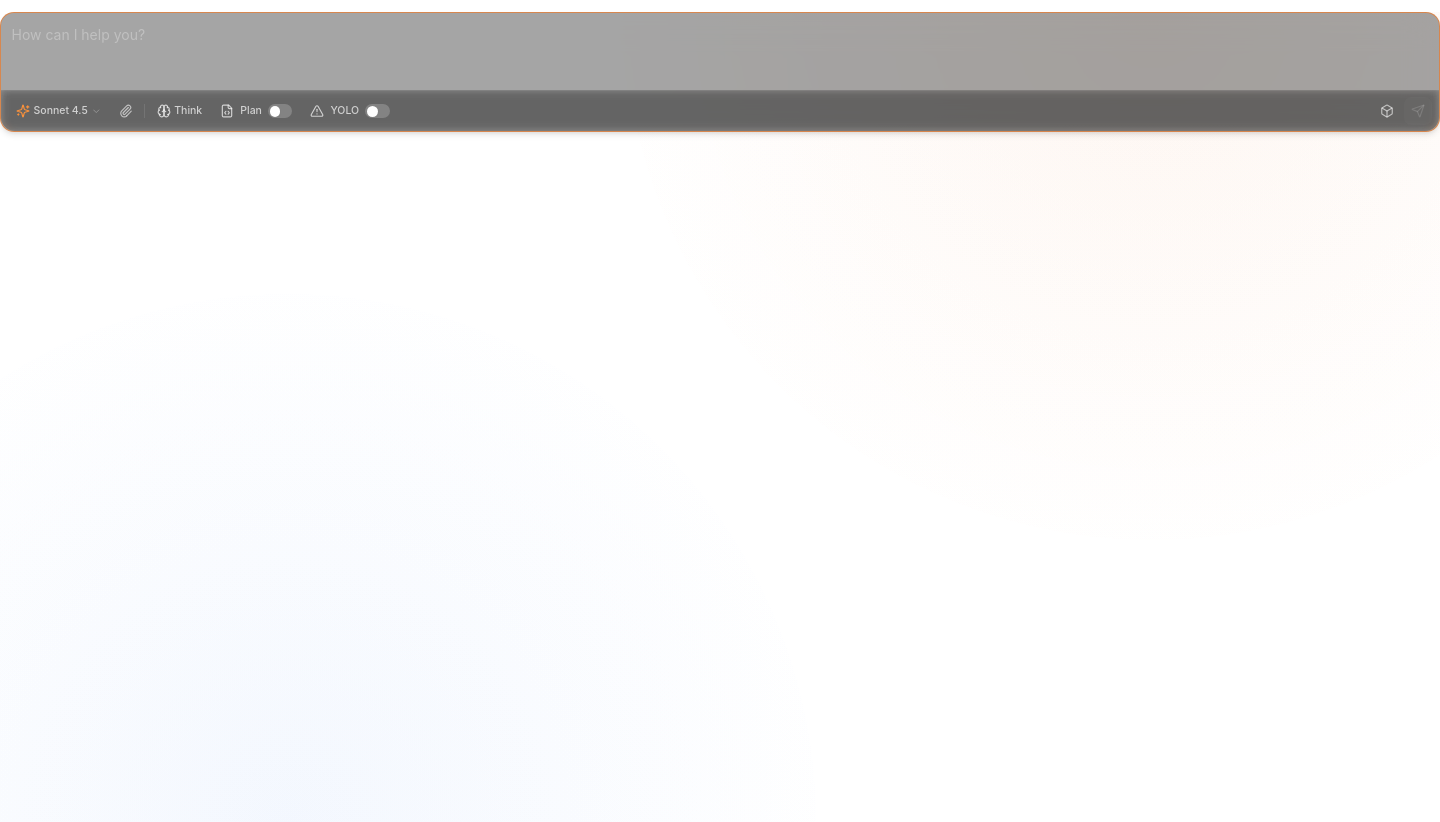
Scenario: MessageInput › attachments › should close attachment menu when clicking outside
This screenshot has width=1440, height=822.
Click the button titled "Attach file or image": {"x": 126, "y": 111} [112,97,140,125]
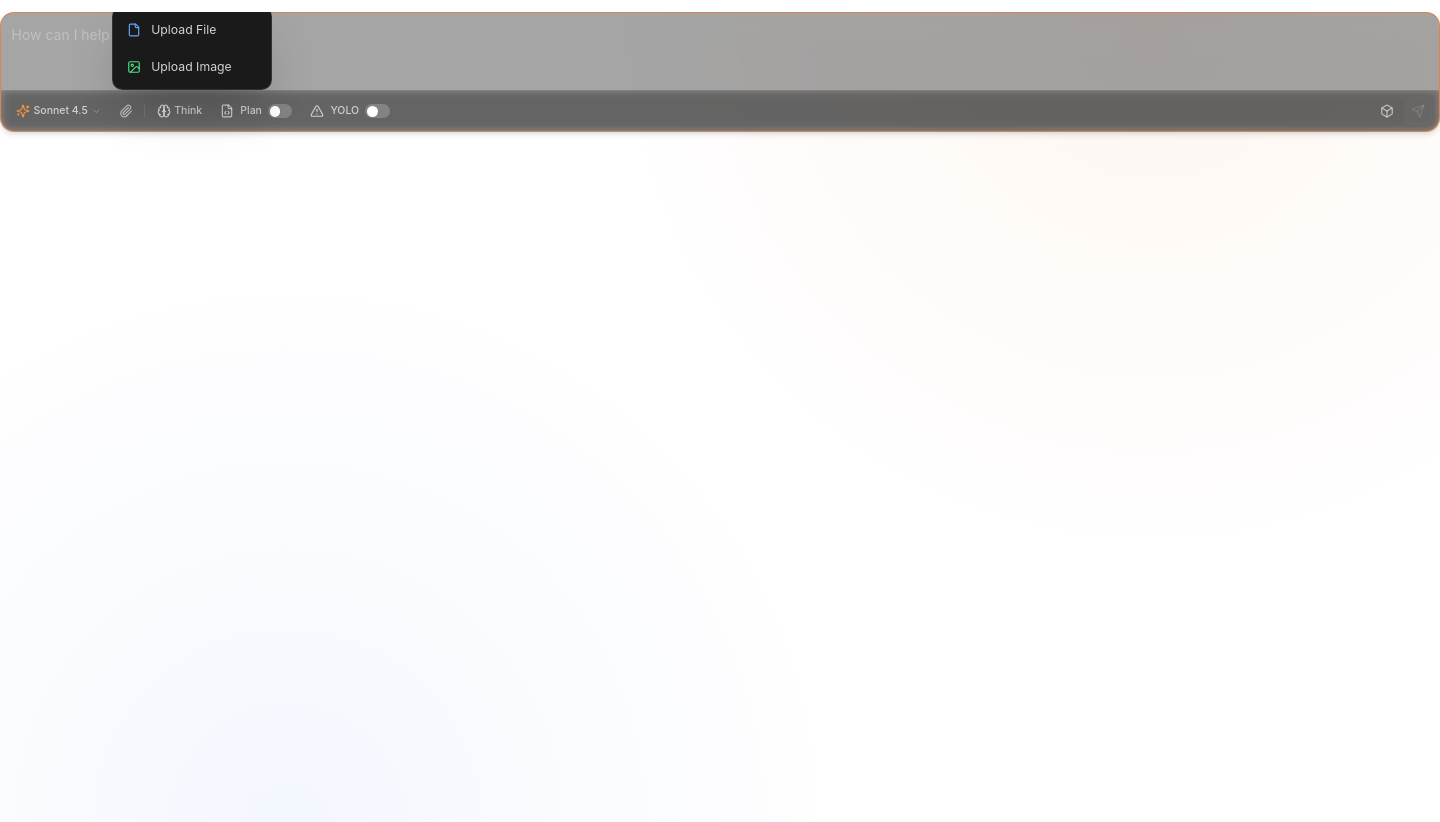
Check: the text "Upload File" is shown, box [151,21,216,38]
Press the mouse on the element showing "Sonnet 4.5 Upload File Upload Image Think Plan YOLO": {"x": 720, "y": 417} [0,12,1439,821]
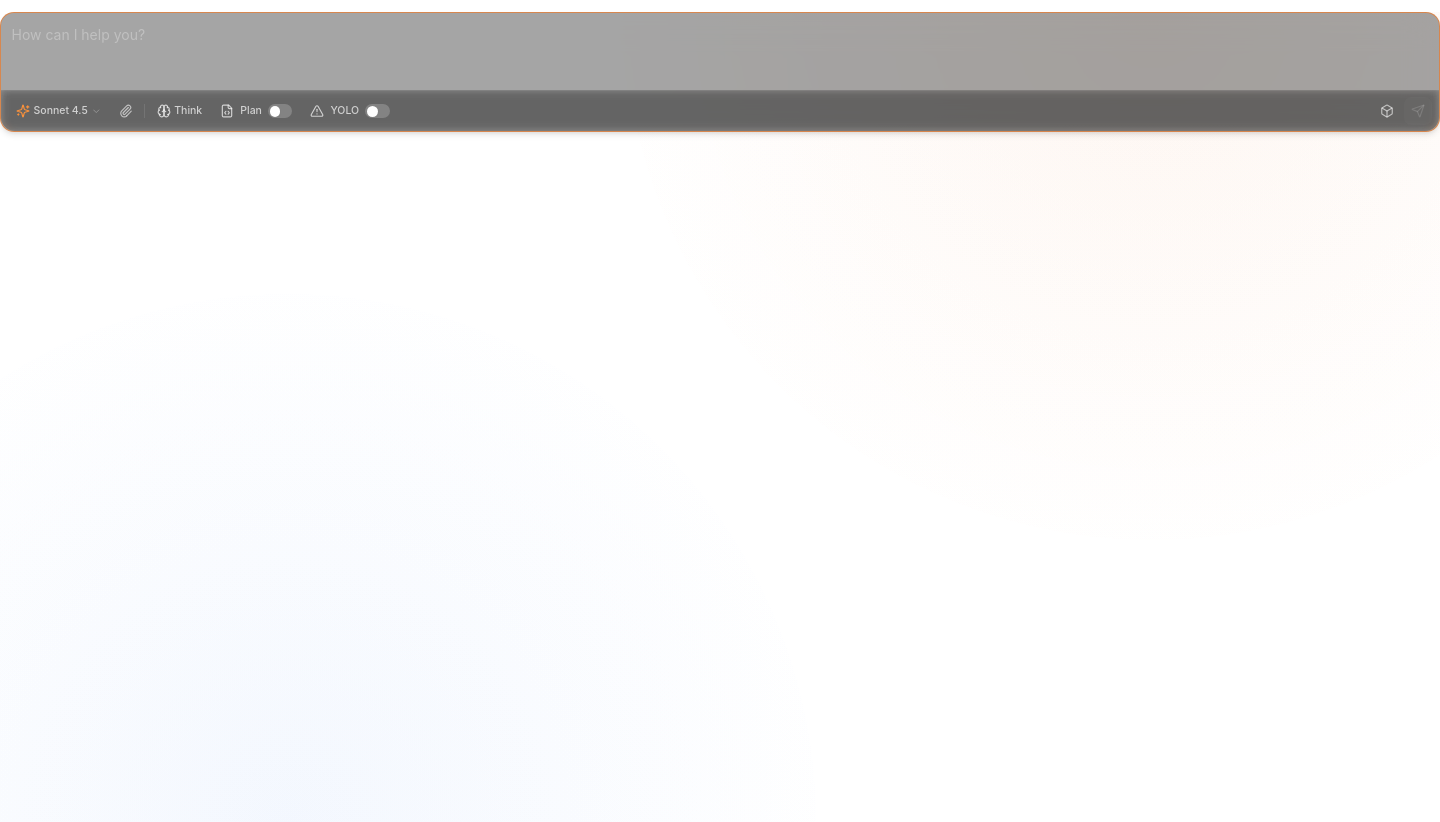
Check: the button "Upload File" is gone
